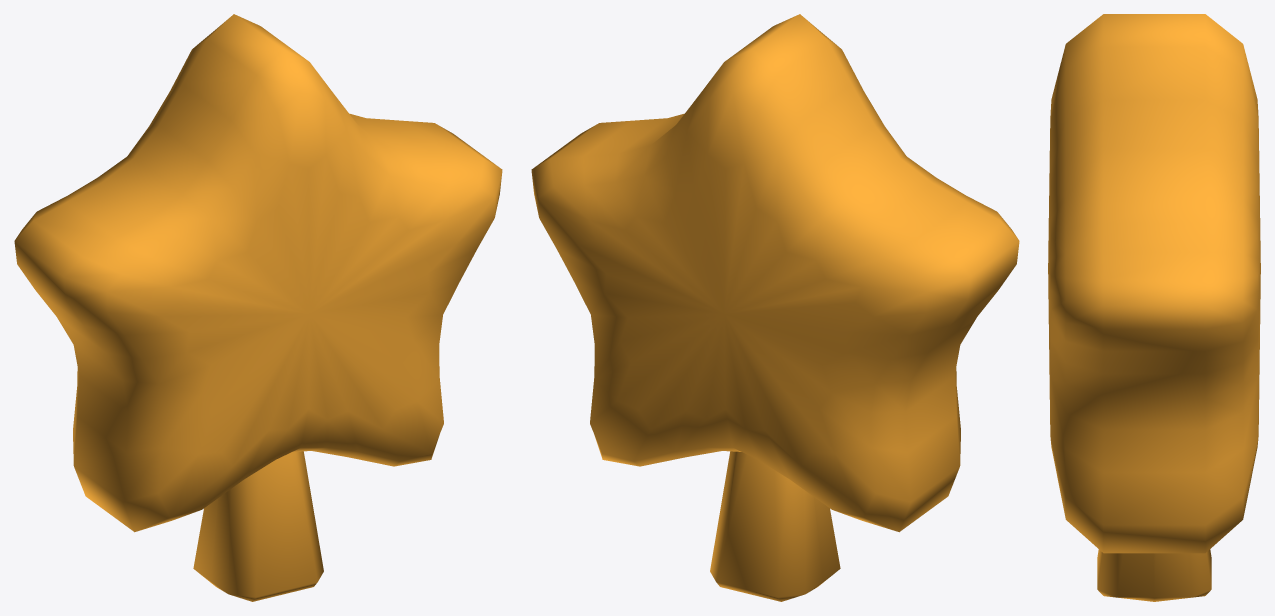
File: star01.fbx
3 views of the same model, side by side, from view 1: azimuth 30°, elevation 25°; view 2: azimuth 150°, elevation 25°; view 3: azimuth 270°, elevation 25° (orthographic). The views are drawn at different scales.
Visible parts, largest first — view 1: star; view 2: star; view 3: star.
Part boxes in pixels (<box>): star: <box>14,14,502,601</box>; star: <box>531,14,1019,601</box>; star: <box>1048,14,1260,601</box>.
Size of the model in its own units: 12.29 by 30.44 by 36.08.
